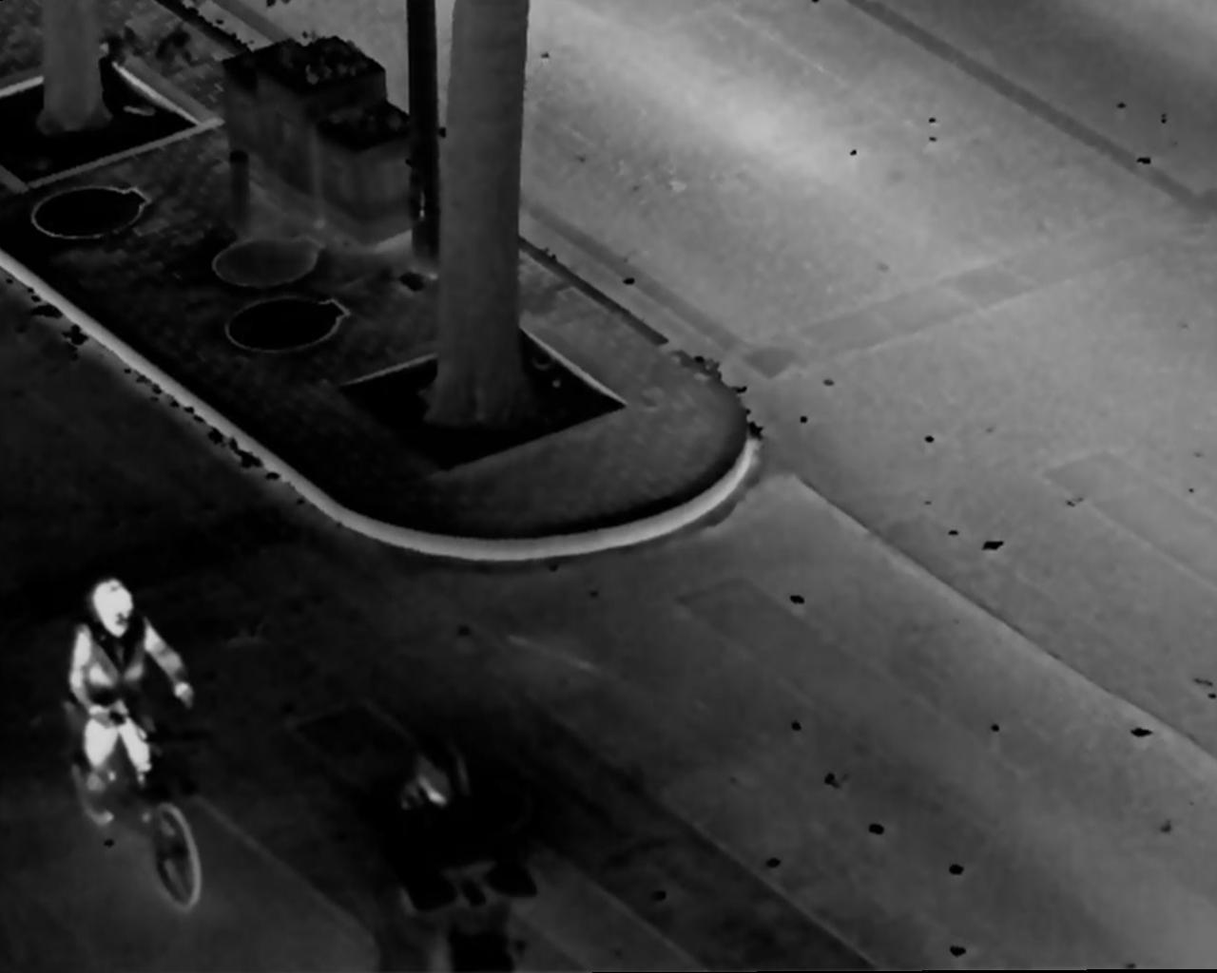person: (66, 577, 199, 868), (375, 738, 499, 967)
